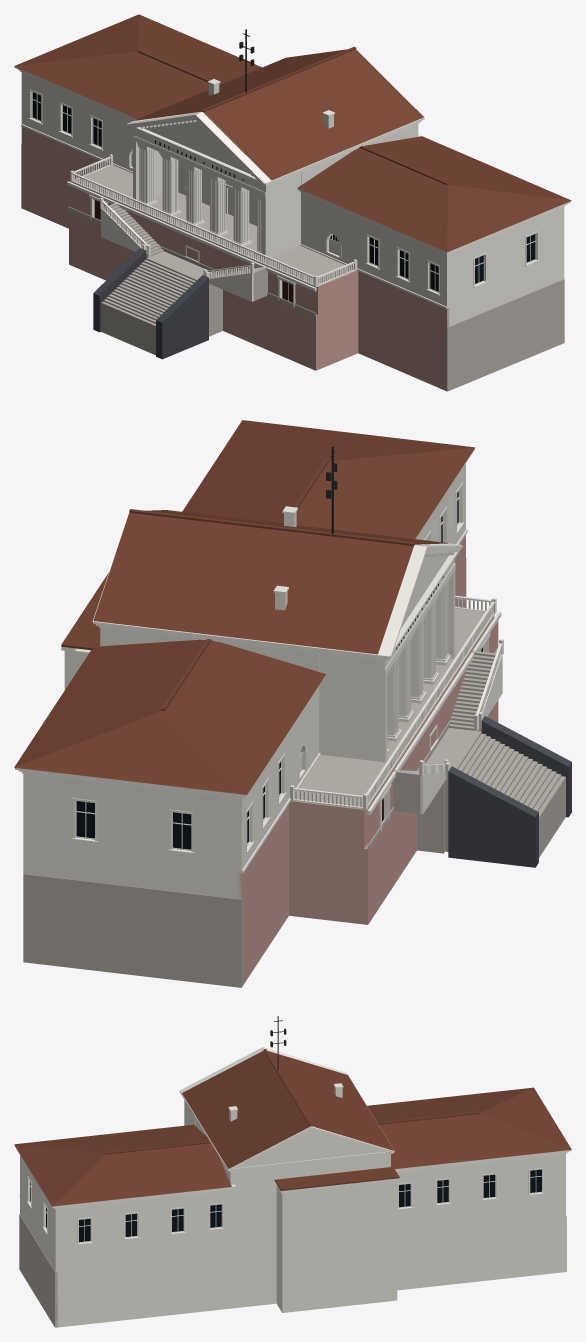
The model's file is kino_pobeda.glb.
The picture shows the model from 3 angles, top to bottom: view 1: azimuth 30°, elevation 25°; view 2: azimuth 150°, elevation 25°; view 3: azimuth 270°, elevation 25°; orthographic projection. The views are drawn at different scales.
Visible parts, largest first — view 1: kino_pobeda_roof, kino_pobeda_wall, kino_pobeda_wall2, kino_pobeda_trim, kino_pobeda_stone, kino_pobeda_trim_s, kino_pobeda_wall3, kino_pobeda_glass; view 2: kino_pobeda_roof, kino_pobeda_wall, kino_pobeda_stone, kino_pobeda_trim, kino_pobeda_wall2, kino_pobeda_wall3, kino_pobeda_trim_s, kino_pobeda_glass; view 3: kino_pobeda_wall, kino_pobeda_roof, kino_pobeda_trim, kino_pobeda_stone, kino_pobeda_glass.
Boxes of the visible parts, x1,y1,x2,y2 form: kino_pobeda_roof: (14, 14, 571, 252); kino_pobeda_wall: (21, 72, 564, 326); kino_pobeda_wall2: (21, 126, 449, 391); kino_pobeda_trim: (14, 66, 571, 308); kino_pobeda_stone: (21, 144, 564, 391); kino_pobeda_trim_s: (137, 142, 262, 256); kino_pobeda_wall3: (93, 248, 208, 359); kino_pobeda_glass: (32, 92, 535, 291); kino_pobeda_roof: (14, 420, 475, 794); kino_pobeda_wall: (23, 463, 465, 899); kino_pobeda_stone: (23, 558, 565, 987); kino_pobeda_trim: (15, 449, 503, 873); kino_pobeda_wall2: (237, 535, 498, 985); kino_pobeda_wall3: (448, 716, 571, 867); kino_pobeda_trim_s: (387, 575, 451, 754); kino_pobeda_glass: (76, 491, 458, 849); kino_pobeda_wall: (20, 1087, 565, 1327); kino_pobeda_roof: (14, 1049, 571, 1206); kino_pobeda_trim: (15, 1047, 571, 1244); kino_pobeda_stone: (19, 1214, 566, 1327); kino_pobeda_glass: (30, 1169, 541, 1242).
Size of the model in its own units: 39.63 by 29.14 by 63.8.
